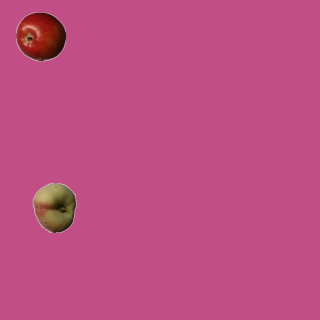Apple Braeburn: (15, 11, 65, 61)
Peach Flat: (29, 182, 79, 232)
